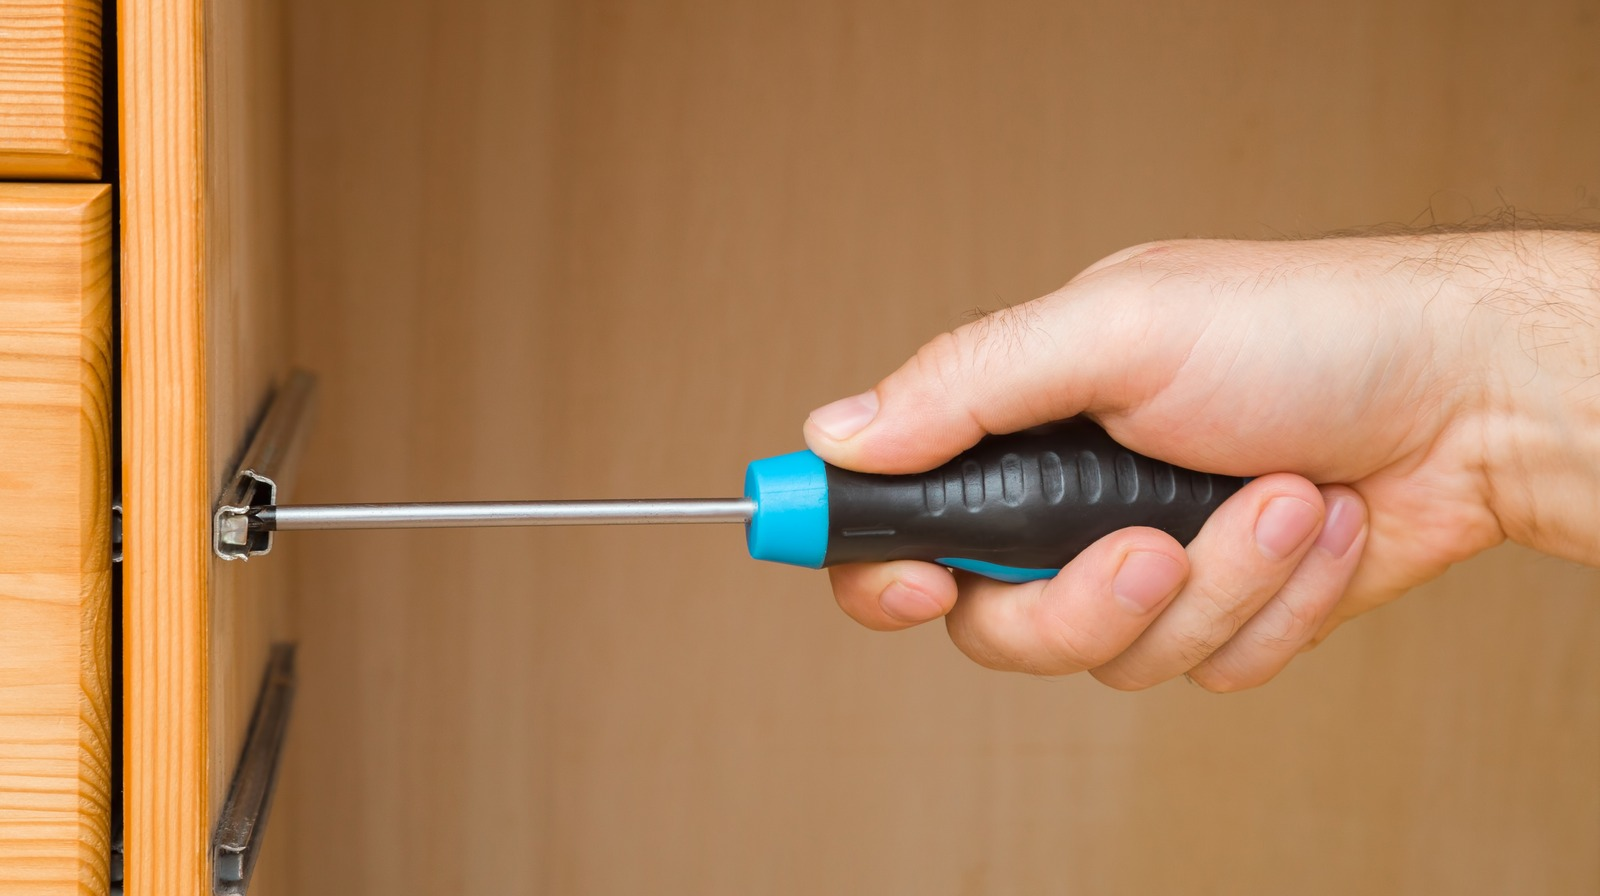screwdriver: (260, 418, 1256, 594)
